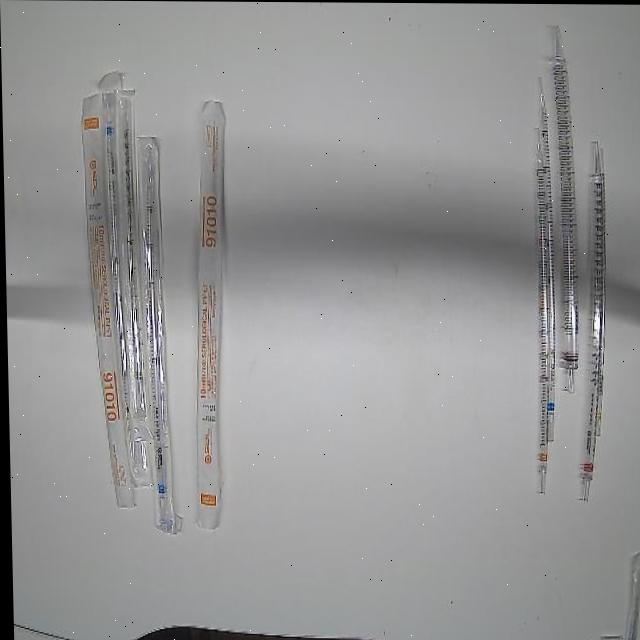Serelogical Pipet 1 mL: (588, 143, 610, 438)
Serelogical Pipet 10 mL: (526, 127, 552, 495)
Serelogical Pipet 10 mL - Sealed: (79, 88, 138, 514), (184, 92, 236, 533)
Serelogical Pipet 2 mL - Sealed: (113, 85, 154, 443)
Serelogical Pipet 25 mL: (571, 138, 606, 509)
Serelogical Pipet 5 mL: (535, 74, 556, 446)
Serelogical Pipet 5 mL - Sealed: (134, 130, 184, 539), (95, 66, 139, 471)
Serelogical Pipet 50 mL: (547, 22, 584, 393)
